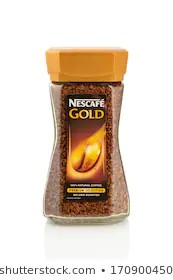nescafe-classic/gold-med: (38, 47, 133, 227)
